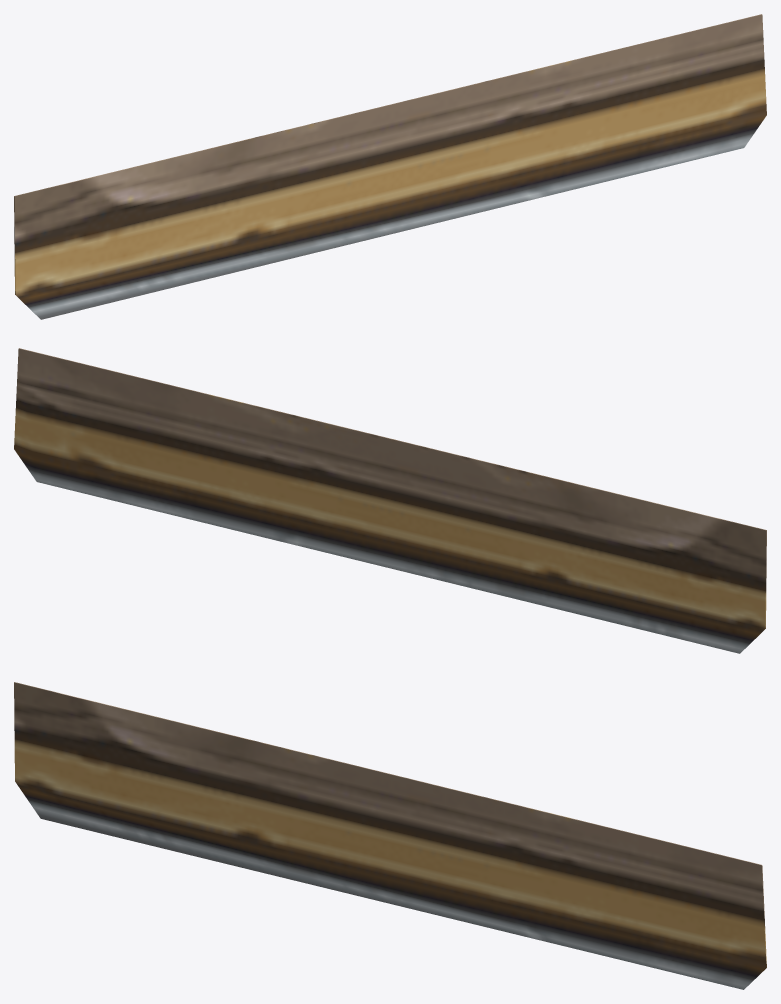
The model's file is School_Legendary.glb.
The picture shows the model from 3 angles, top to bottom: view 1: azimuth 30°, elevation 25°; view 2: azimuth 150°, elevation 25°; view 3: azimuth 330°, elevation 25°; orthographic projection.
Parts seen in each view (by area): view 1: Circle.001; view 2: Circle.001; view 3: Circle.001.
Part boxes in pixels (left/top/right/bottom): Circle.001: left=14, top=14, right=766, bottom=319; Circle.001: left=14, top=348, right=766, bottom=653; Circle.001: left=14, top=682, right=766, bottom=989.
Size of the model in its own units: 4.17 by 0.6882 by 0.005.
Materials: 1 (1 with a texture image).
